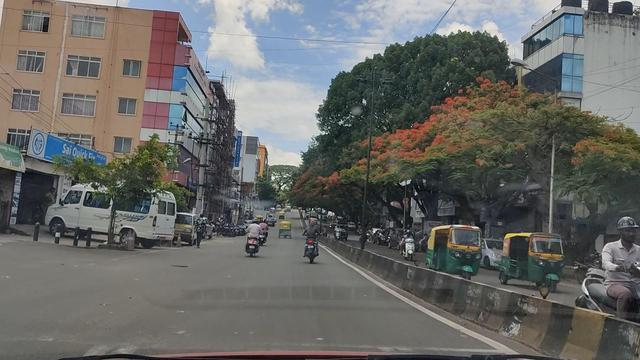LMV: (240, 213, 265, 259), (305, 224, 323, 264)
